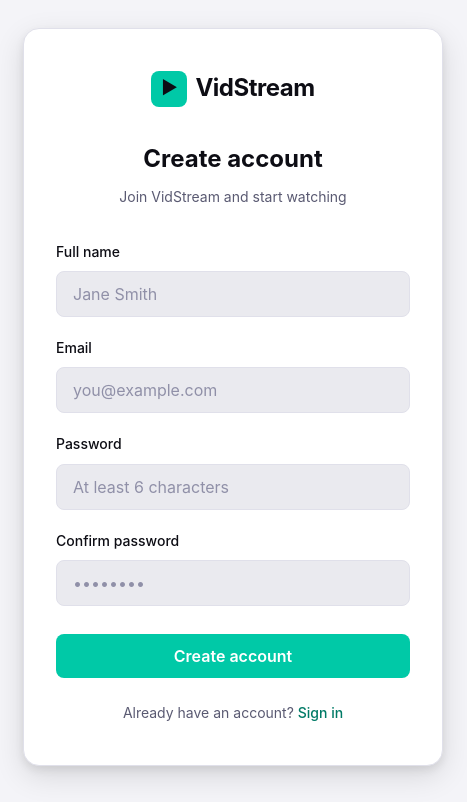
Test: RegisterPage › T2.12 — password mismatch shows inline error
Type "Jane" into the field labelled "Full name" at (233,294), box left=56, top=271, right=410, bottom=317
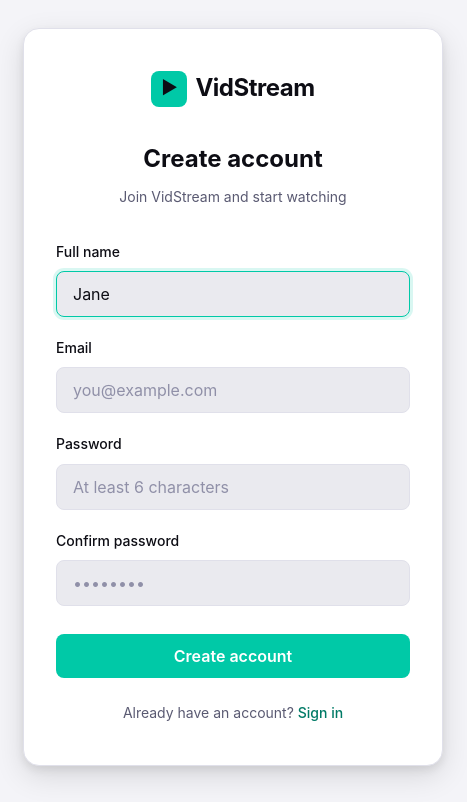
Type "j@b.com" into the field labelled "Email" at (233,390), box left=56, top=367, right=410, bottom=413
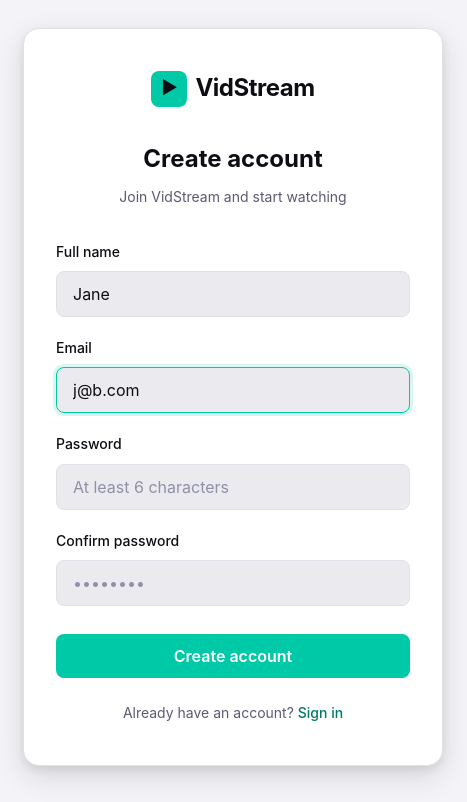
Type "pass123" into the password field labelled "Password" at (233,487), box left=56, top=464, right=410, bottom=510
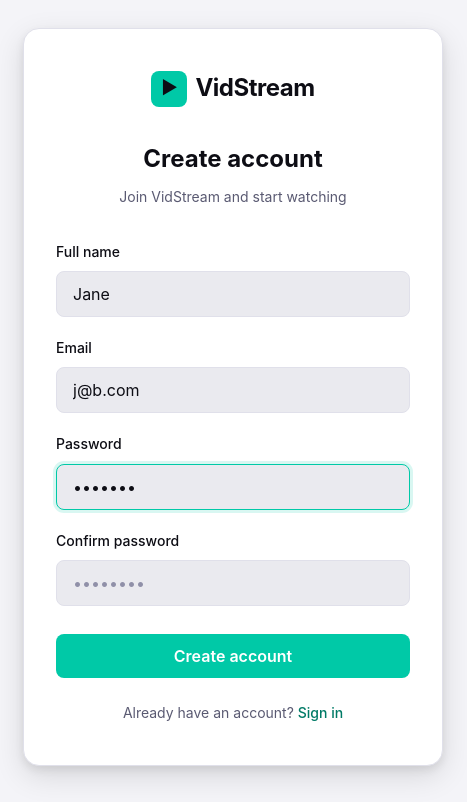
Type "different" into the password field labelled "Confirm password" at (233,583), box left=56, top=560, right=410, bottom=606
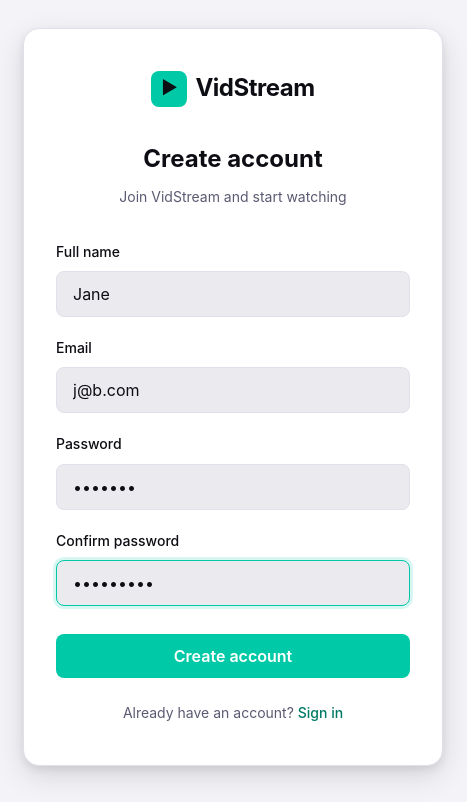
Click the button "Create account" at (233,656), box left=56, top=634, right=410, bottom=678
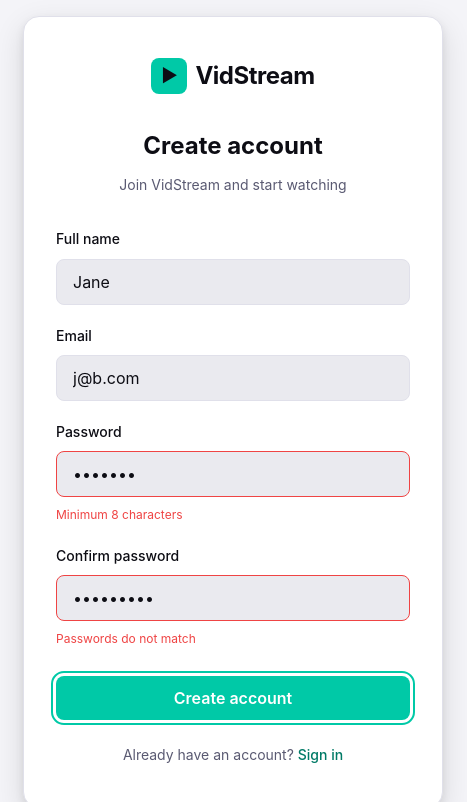
Expected: the text "Passwords do not match" is shown, left=56, top=631, right=196, bottom=646
